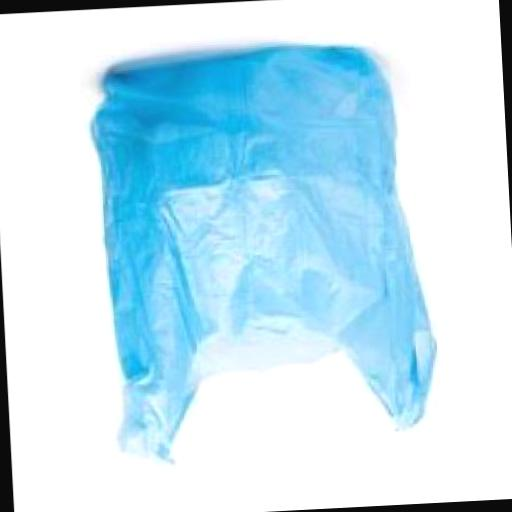plastic: (90, 47, 440, 474)
